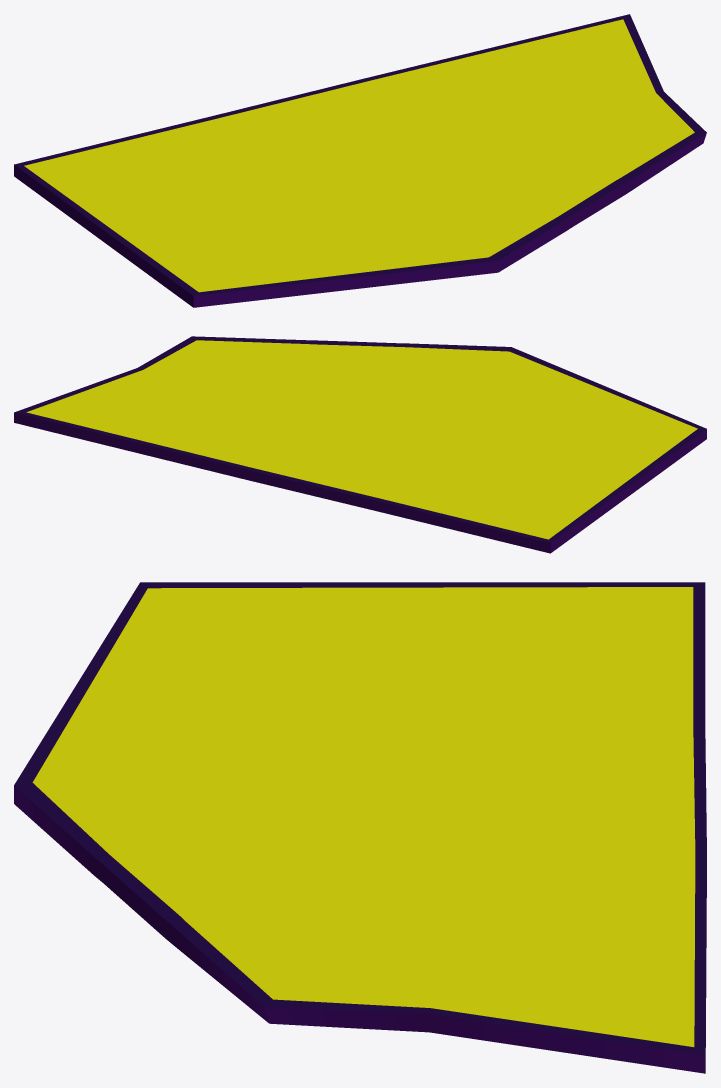
Rendered from Floor_Type_7.fbx.
3 renders of one model, top to bottom at view 1: azimuth 30°, elevation 25°; view 2: azimuth 150°, elevation 25°; view 3: azimuth 270°, elevation 25°, orthographic. The views are drawn at different scales.
Visible parts, largest first — view 1: Floor; view 2: Floor; view 3: Floor.
Part boxes in pixels (x1=…): Floor: x1=14, y1=14, x2=706, y2=307; Floor: x1=14, y1=336, x2=706, y2=553; Floor: x1=14, y1=582, x2=706, y2=1073.
Size of the model in its own units: 1146 by 21.05 by 710.
